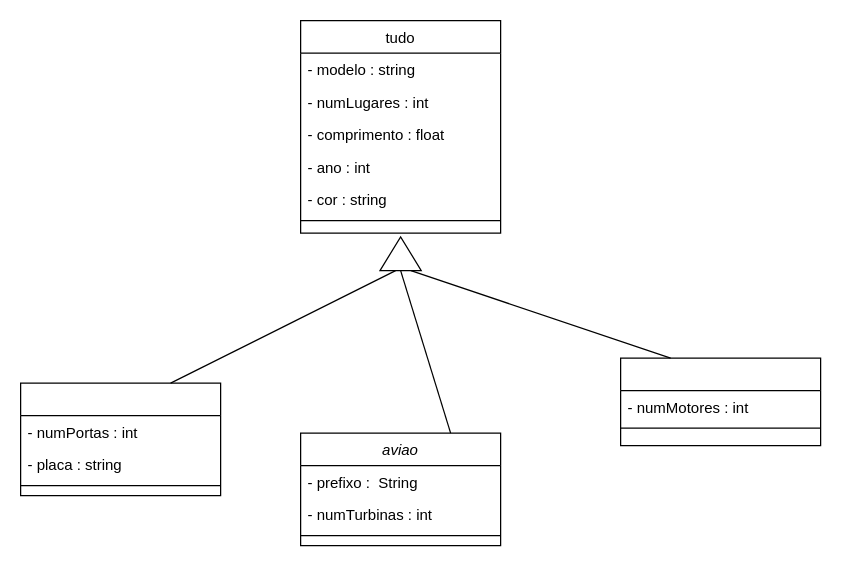
The diagram is 841 pixels wide and 566 high, and some of its shapes have lost their labels. Each missing label, with the box of its shape:
carro: (19, 382, 221, 496)
lancha: (619, 357, 821, 446)
